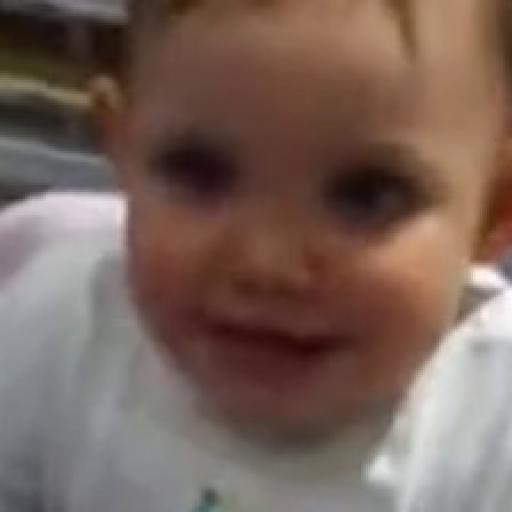Autism: (137, 43, 476, 479)
